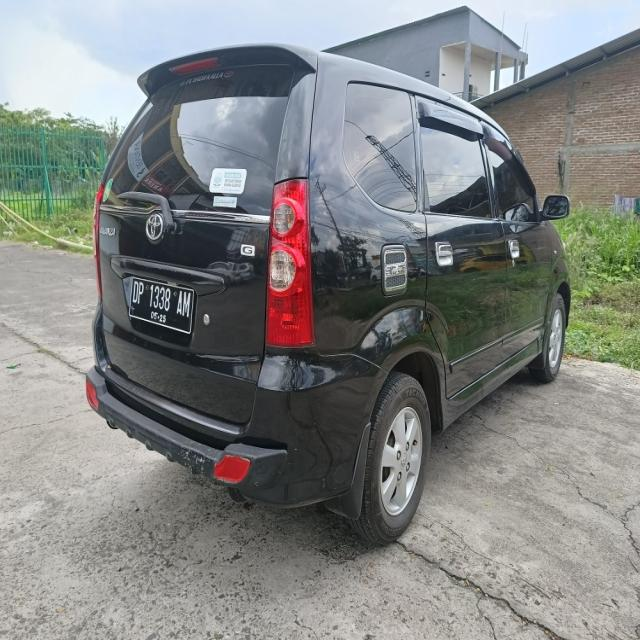plates: (127, 278, 198, 333)
